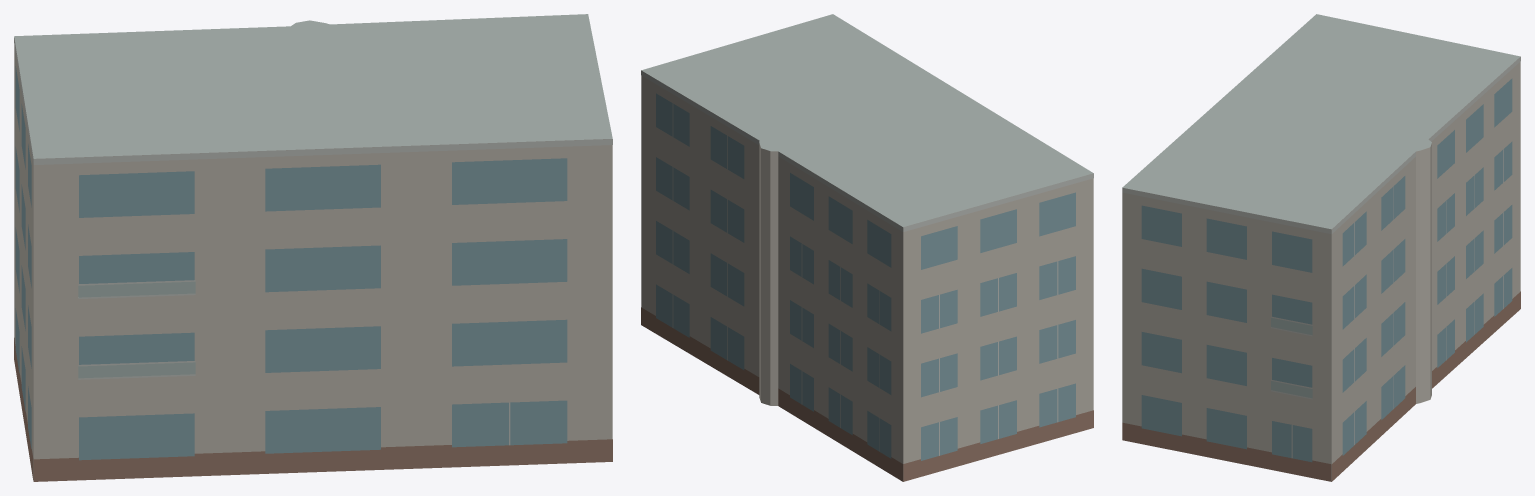
File: survey-upis-32532891.glb
The picture shows the model from 3 angles, left to right: view 1: azimuth 30°, elevation 25°; view 2: azimuth 150°, elevation 25°; view 3: azimuth 270°, elevation 25°; orthographic projection. The views are drawn at different scales.
Visible parts, largest first — view 1: survey-upis-32532891.tmp; view 2: survey-upis-32532891.tmp; view 3: survey-upis-32532891.tmp.
Boxes of the visible parts, bbox=[...] form: survey-upis-32532891.tmp: bbox=[14, 14, 612, 481]; survey-upis-32532891.tmp: bbox=[641, 14, 1093, 481]; survey-upis-32532891.tmp: bbox=[1122, 14, 1520, 481].
Bounding box in the file's own units: 22.87 × 12.5 × 17.89.
